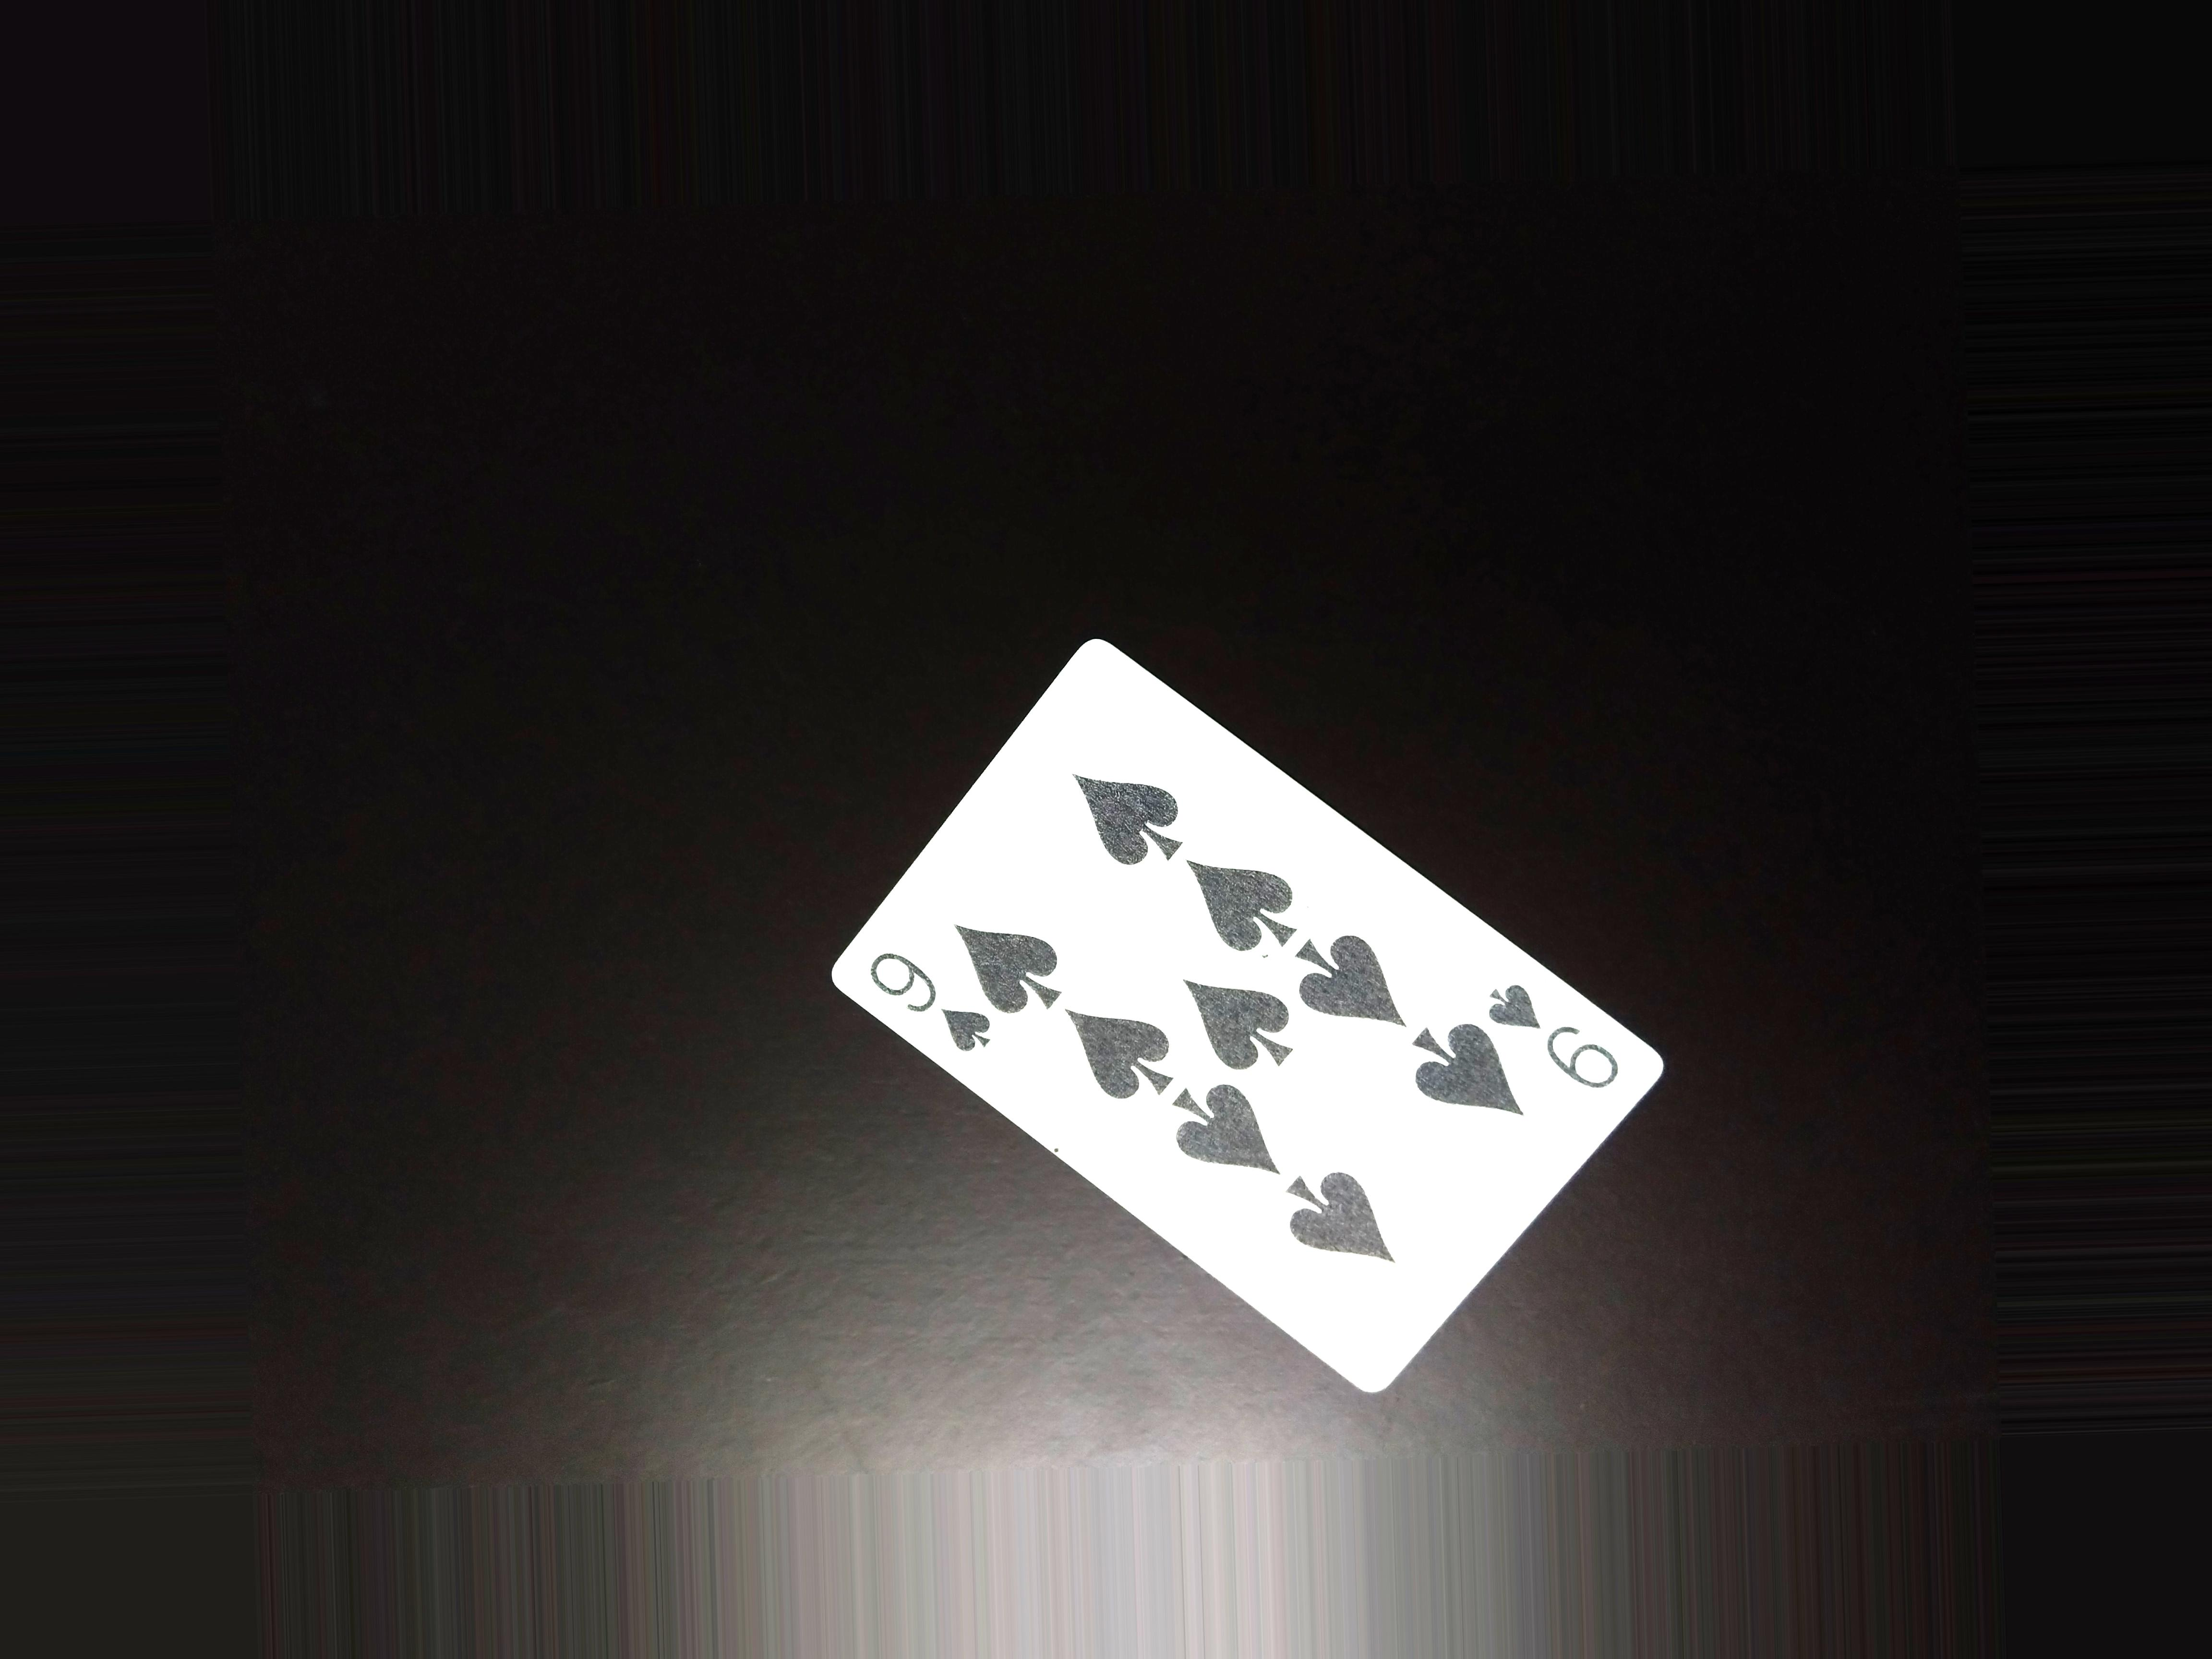9S: (860, 938, 1010, 1077)
